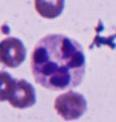N: (30, 33, 86, 89)
